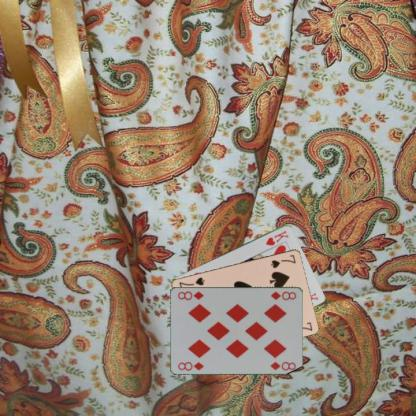7s: (268, 252, 297, 269)
8d: (268, 289, 298, 301), (176, 359, 205, 371)
Kh: (263, 228, 290, 246)
